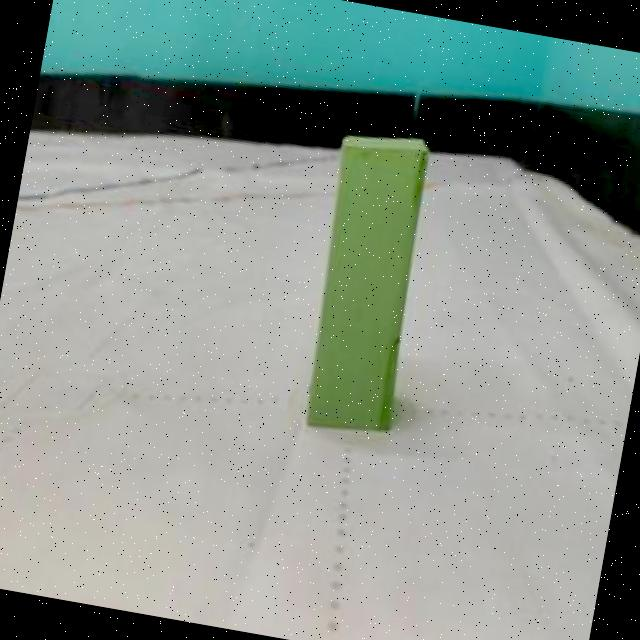greenbox: (291, 120, 442, 446)
